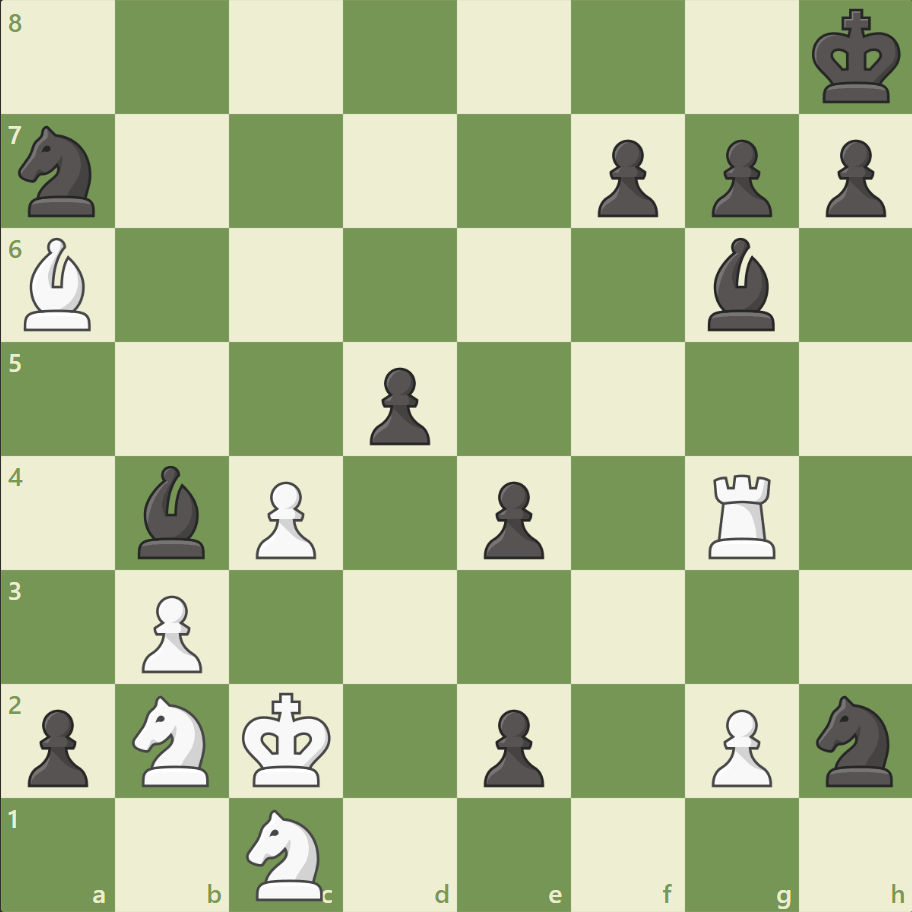B: (17, 233, 101, 336)
K: (238, 685, 338, 793)
N: (124, 688, 222, 791), (238, 802, 335, 904)
P: (247, 473, 322, 564), (133, 586, 208, 677), (701, 700, 776, 791)
R: (700, 466, 783, 563)
b: (698, 233, 782, 336), (131, 460, 215, 563)
k: (806, 4, 906, 112)
n: (806, 688, 903, 791), (11, 121, 108, 223)
p: (701, 132, 776, 223), (474, 473, 549, 564), (20, 700, 95, 791), (474, 700, 549, 791), (588, 132, 662, 223), (815, 132, 889, 223), (361, 359, 435, 450)
